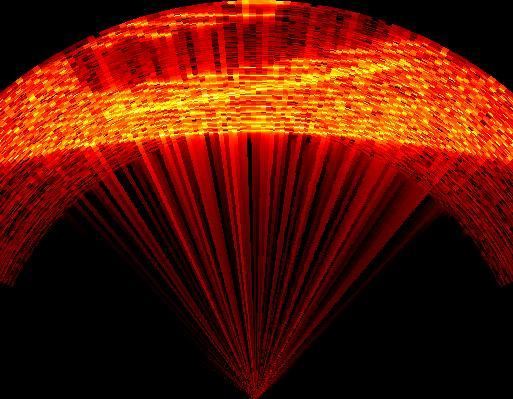pipe: (66, 8, 386, 92)
